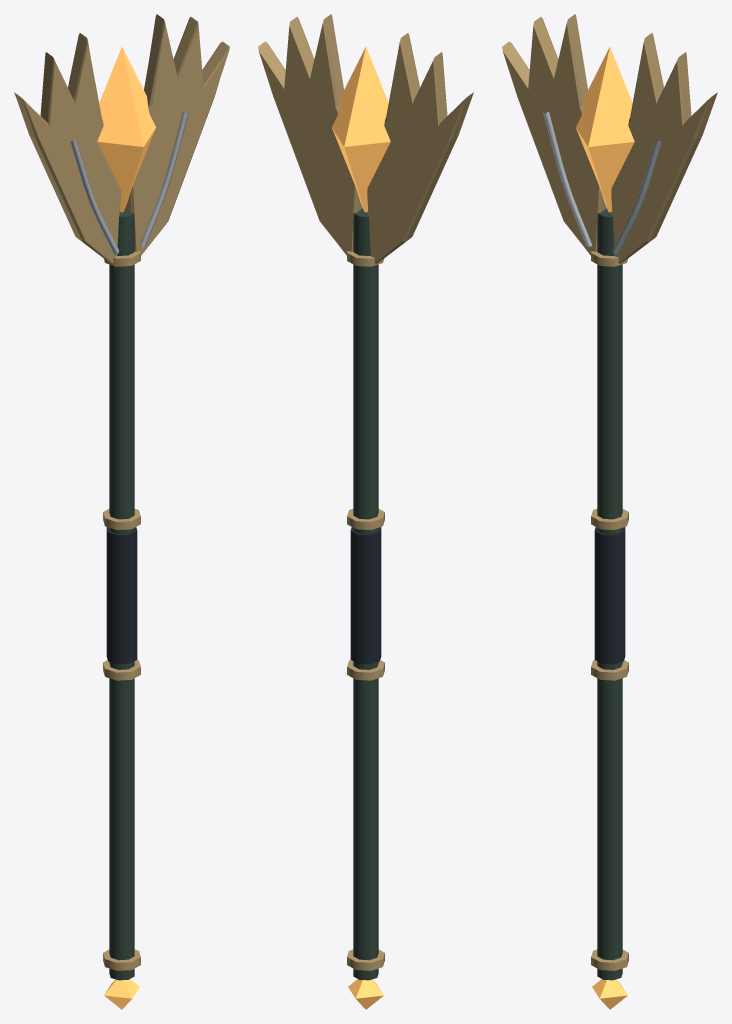
The model's file is universal-low.glb.
The picture shows the model from 3 angles, left to right: view 1: azimuth 30°, elevation 25°; view 2: azimuth 150°, elevation 25°; view 3: azimuth 330°, elevation 25°; orthographic projection.
Parts seen in each view (by area): view 1: Hearthkeeper Staff; view 2: Hearthkeeper Staff; view 3: Hearthkeeper Staff.
Part boxes in pixels (left/top/right/bottom): Hearthkeeper Staff: left=14, top=14, right=229, bottom=1009; Hearthkeeper Staff: left=258, top=14, right=473, bottom=1009; Hearthkeeper Staff: left=502, top=14, right=717, bottom=1009.
Size of the model in its own units: 0.4057 by 1.83 by 0.147.
